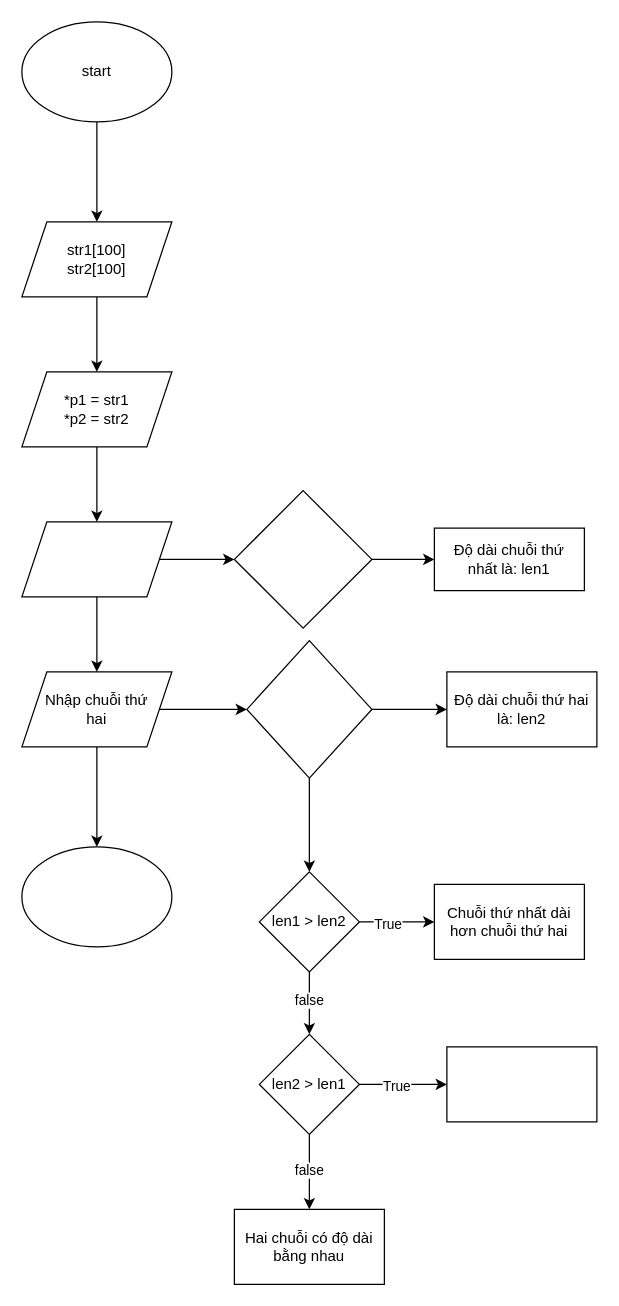
Image size: 619x1306. Some labels were removed from this diagram. The centre of each missing label's shape, as x and y in pixels:
Chuỗi thứ hai dài hơn chuỗi thứ nhất: [521,1084]
End: [96,896]
len 1 = strlen (str1): [302,558]
len 2 = strlen (str2): [309,708]
Nhập chuỗi thứ nhất: [96,559]
